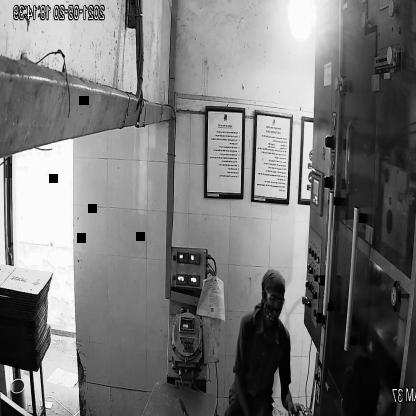goggles: (264, 290, 287, 308)
